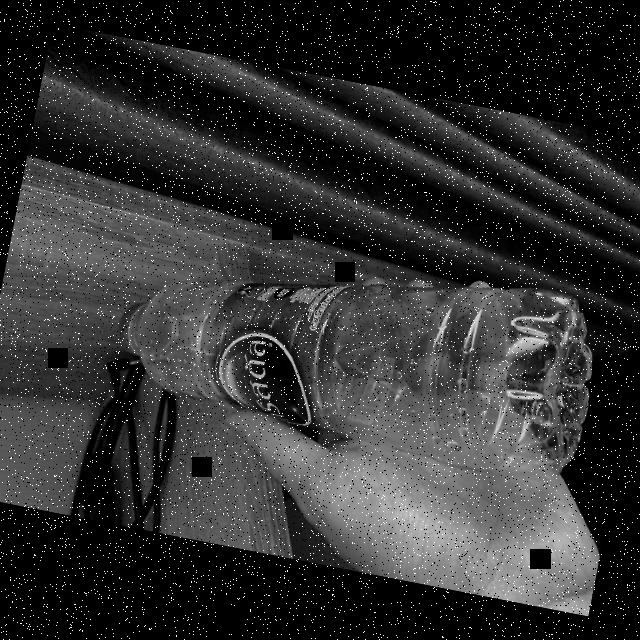plastic_bottle: (99, 204, 613, 495)
plastic_bottle_cap: (106, 296, 180, 366)
